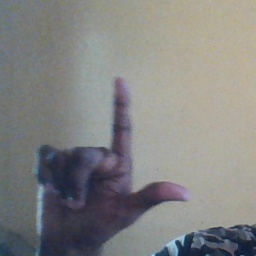L: (32, 76, 191, 243)
